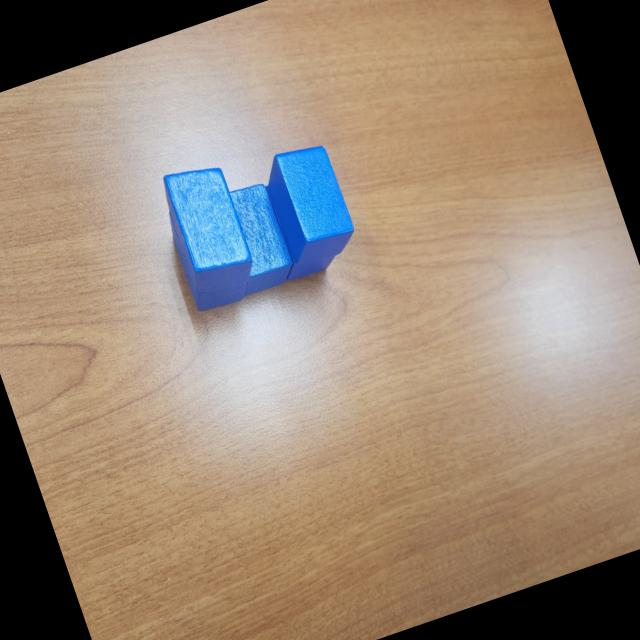blue: (156, 156, 260, 299), (258, 137, 360, 267), (161, 192, 255, 316), (210, 178, 300, 298), (254, 168, 339, 282)
